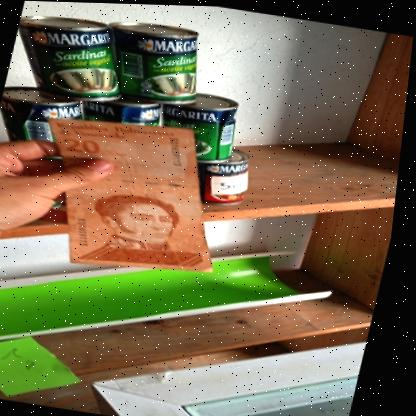twenty-front-vef: (19, 106, 250, 285)
